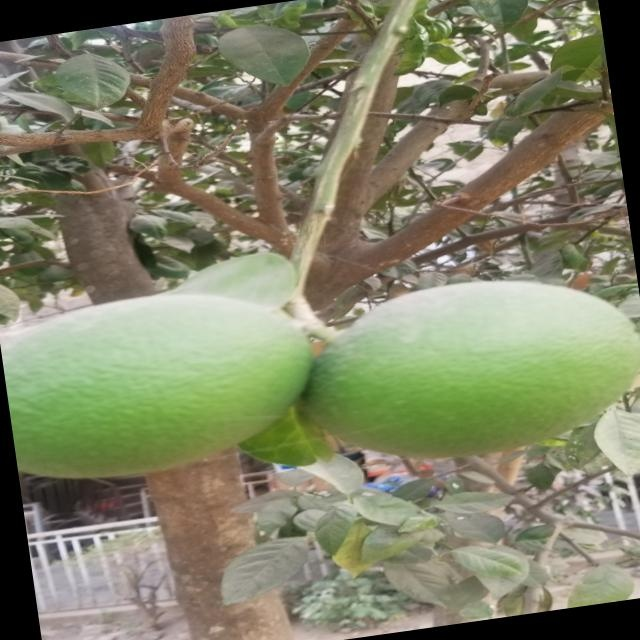agrume: (278, 259, 640, 486), (4, 276, 328, 495)
